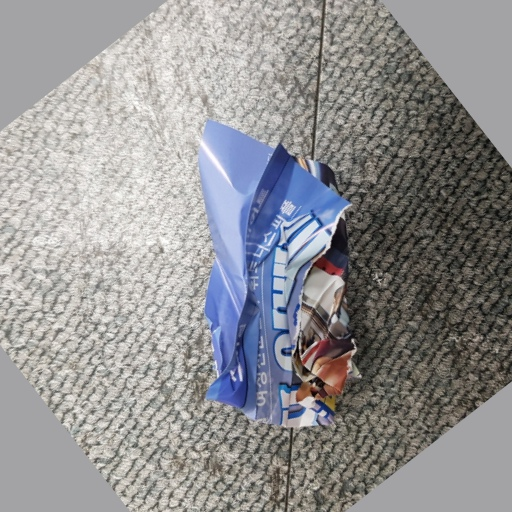Paper_3: (174, 114, 371, 441)
